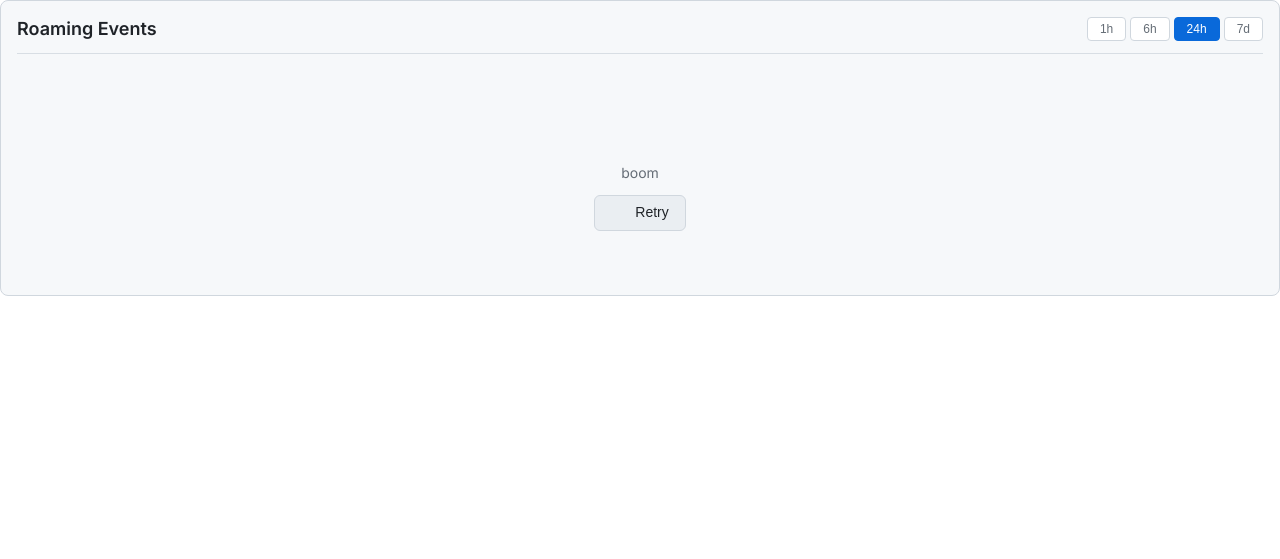
Test case: RoamingEventsCard › shows an error state with a working retry
Check: the message "boom Retry" is shown, box [594, 118, 686, 231]
Click the button "Retry" at (640, 213), box [594, 195, 686, 231]
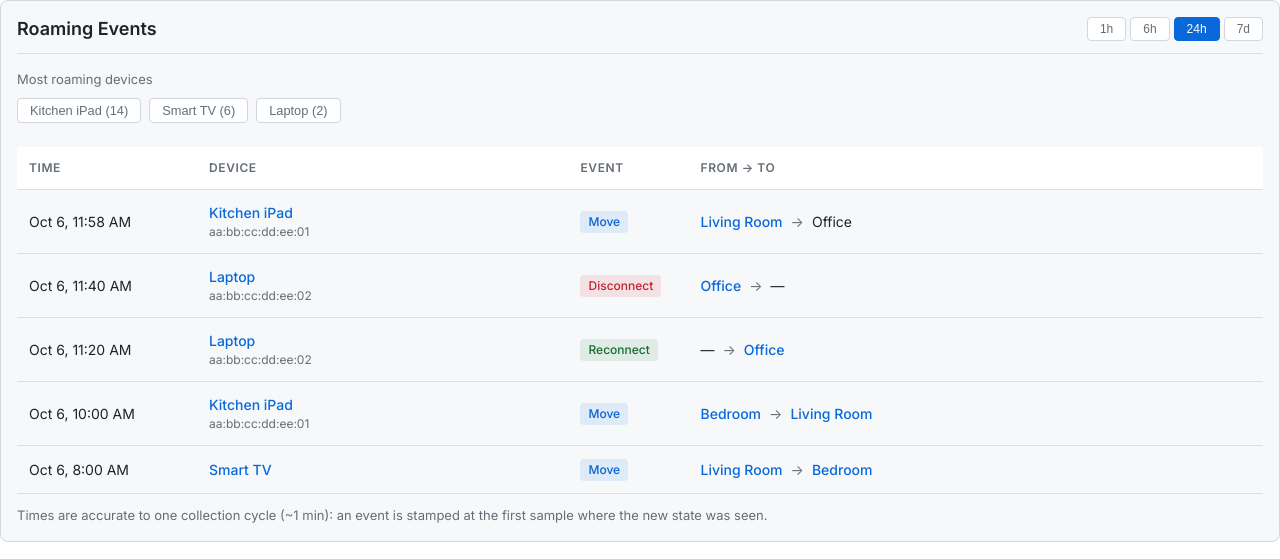
Check: the button "Kitchen iPad (14)" is shown, box [17, 98, 141, 122]
